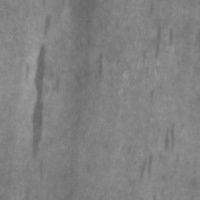inclusion: (15, 34, 55, 163), (138, 117, 178, 183), (148, 21, 176, 61), (89, 44, 109, 85), (139, 192, 165, 199)
